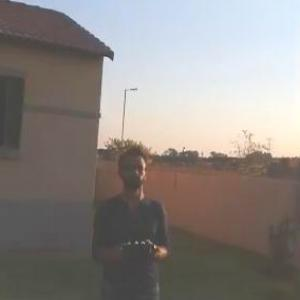follow: (84, 147, 174, 299)
